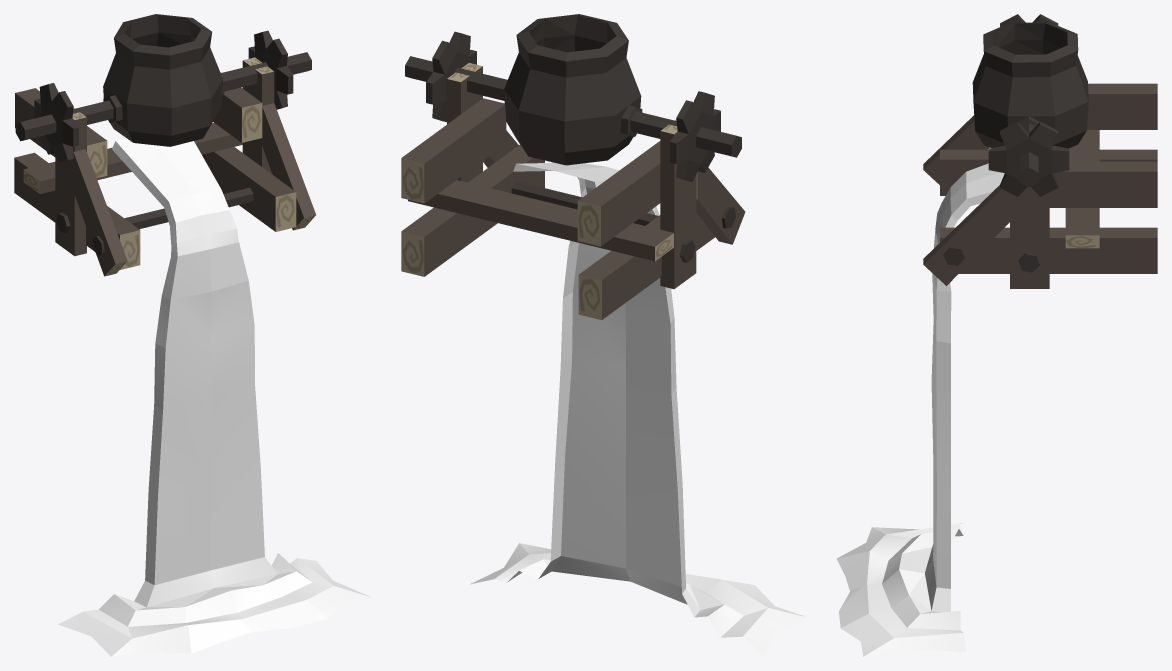
File: acidTrap.fbx
The picture shows the model from 3 angles, left to right: view 1: azimuth 30°, elevation 25°; view 2: azimuth 150°, elevation 25°; view 3: azimuth 270°, elevation 25°; orthographic projection. The views are drawn at different scales.
Parts seen in each view (by area): view 1: acidTrapAcid, acidTrap, acidTrapBucket; view 2: acidTrapAcid, acidTrap, acidTrapBucket; view 3: acidTrap, acidTrapAcid, acidTrapBucket.
Part boxes in pixels (x1,y1,x2,y2): acidTrapAcid: (58,138,372,656); acidTrap: (14,57,315,276); acidTrapBucket: (15,14,311,162); acidTrapAcid: (470,162,807,656); acidTrap: (401,63,745,320); acidTrapBucket: (405,14,741,182); acidTrap: (923,83,1157,288); acidTrapAcid: (836,163,1004,656); acidTrapBucket: (972,14,1088,196).
Size of the model in its own units: 3.42 by 6.14 by 3.23.
